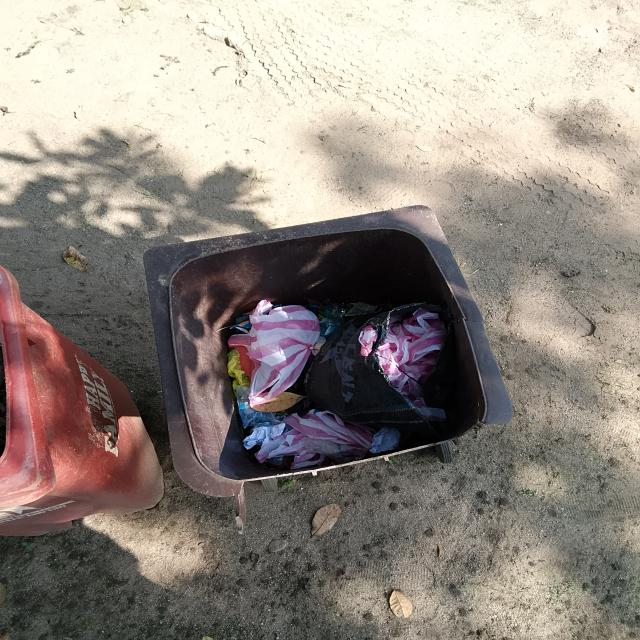half-full: (145, 201, 509, 495)
